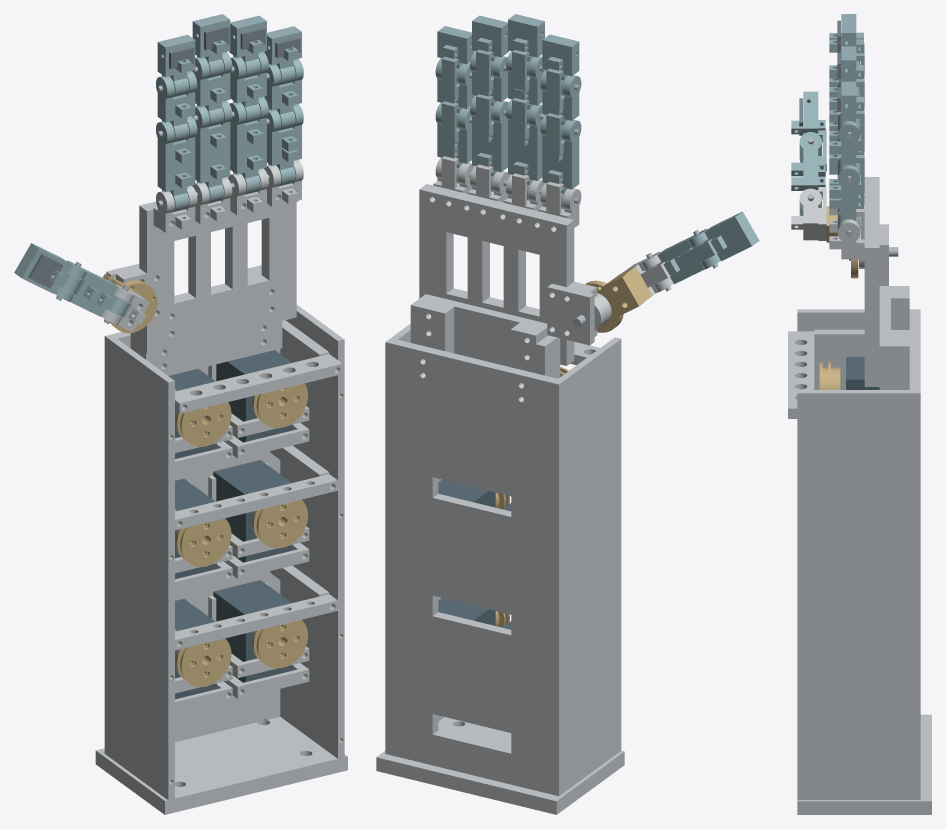
Rendered from tendon_hand_A0.glb.
3 renders of one model, left to right at view 1: azimuth 30°, elevation 25°; view 2: azimuth 150°, elevation 25°; view 3: azimuth 270°, elevation 25°, orthographic. The views are drawn at different scales.
Parts seen in each view (by area): view 1: Forearm chassis, Palm frame, Wrist bridge, Adjustable sheath anchor, Sheath comb 2, Sheath comb 1, Motor M6, Motor M4, middle phalanx 1, index phalanx 1, ring phalanx 1, Motor M2 (+36 smaller); view 2: Forearm chassis, Palm frame, Wrist bridge, Thumb pivot housing, middle phalanx 1, index phalanx 1, ring phalanx 1, little phalanx 1, thumb phalanx 1, Thumb opposition carrier, index phalanx 2, middle phalanx 2 (+14 smaller); view 3: Forearm chassis, Palm frame, Wrist bridge, Adjustable sheath anchor, thumb phalanx 1, little phalanx 1, thumb root, little phalanx 2, little root, thumb phalanx 2, little phalanx 3, ring phalanx 3 (+6 smaller).
Boxes of the visible parts, x1,y1,x2,y2 form: Forearm chassis: (95, 305, 347, 814); Palm frame: (116, 201, 296, 353); Wrist bridge: (130, 265, 282, 375); Adjustable sheath anchor: (175, 354, 342, 413); Sheath comb 2: (175, 594, 337, 650); Sheath comb 1: (175, 474, 337, 530); Motor M6: (213, 580, 293, 682); Motor M4: (213, 460, 293, 562); middle phalanx 1: (192, 100, 232, 203); index phalanx 1: (156, 116, 197, 212); ring phalanx 1: (229, 97, 268, 194); Motor M2: (216, 350, 293, 442); Forearm chassis: (376, 324, 624, 814); Palm frame: (419, 184, 597, 365); Wrist bridge: (410, 294, 560, 378); Thumb pivot housing: (547, 283, 611, 345); middle phalanx 1: (506, 98, 545, 200); index phalanx 1: (540, 113, 581, 209); ring phalanx 1: (470, 94, 508, 191); little phalanx 1: (435, 101, 471, 183); thumb phalanx 1: (645, 229, 720, 284); Thumb opposition carrier: (585, 266, 652, 332); index phalanx 2: (540, 68, 581, 140); middle phalanx 2: (506, 50, 543, 125); Forearm chassis: (797, 309, 931, 814); Palm frame: (864, 177, 879, 386); Wrist bridge: (879, 286, 909, 389); Adjustable sheath anchor: (788, 331, 814, 418); thumb phalanx 1: (791, 130, 826, 215); little phalanx 1: (829, 151, 864, 228); thumb root: (791, 187, 826, 240); little phalanx 2: (829, 107, 864, 174); little root: (829, 205, 864, 259); thumb phalanx 2: (791, 91, 825, 160); little phalanx 3: (829, 81, 863, 130); ring phalanx 3: (829, 46, 863, 96).
Size of the model in its own units: 0.1942 by 0.435 by 0.077.
